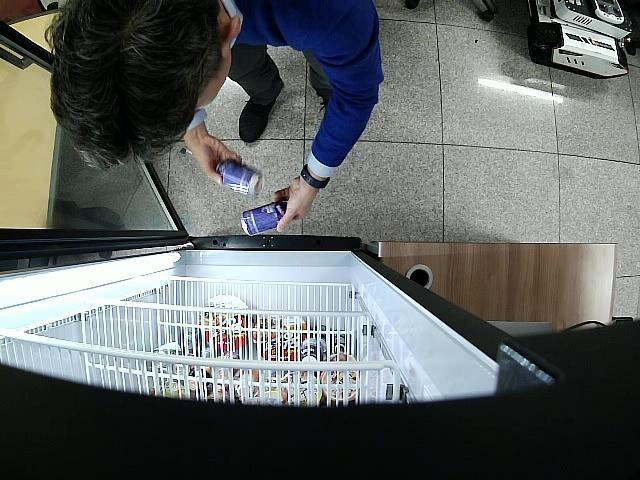14_welchsGrape: (216, 160, 264, 198), (242, 202, 286, 236)
